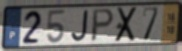2: (20, 8, 44, 47)
5: (46, 8, 67, 45)
7: (142, 6, 160, 42)
J: (70, 9, 90, 43)
P: (89, 8, 116, 44)
X: (113, 6, 140, 44)
